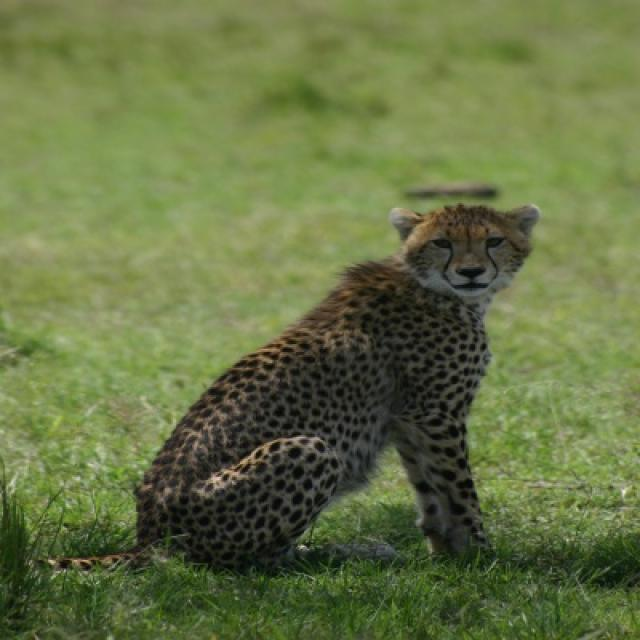Cheetah: (10, 195, 544, 578)
